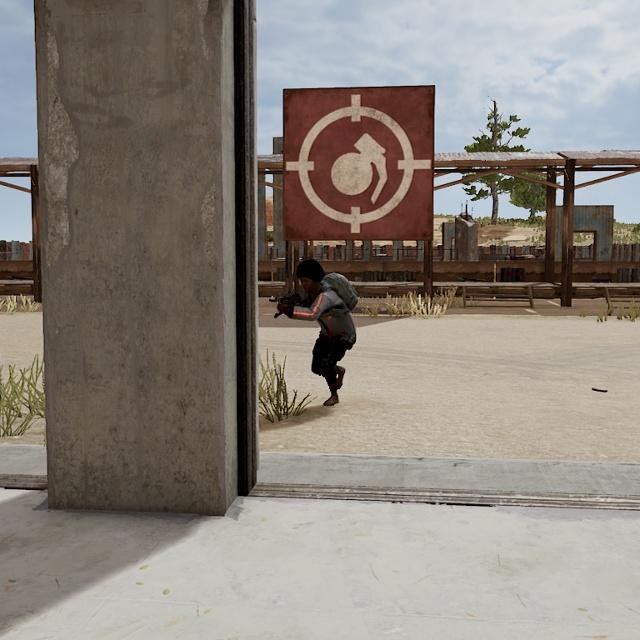head: (296, 259, 322, 293)
people: (288, 256, 357, 408)
